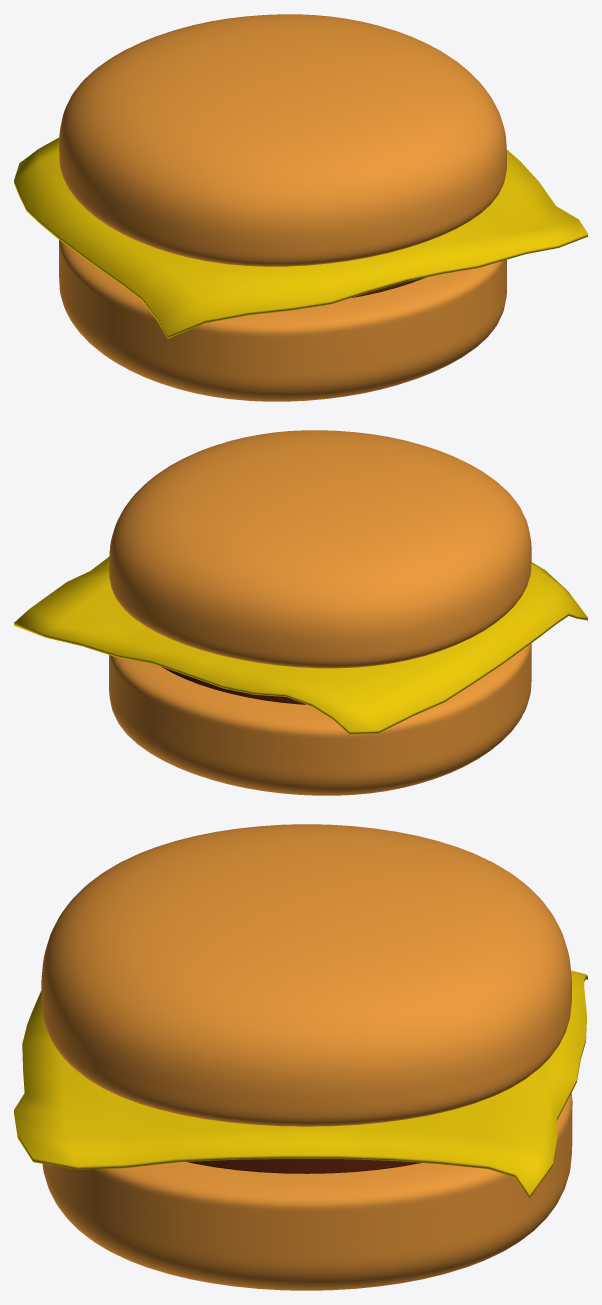
The model's file is 面包片.glb.
3 renders of one model, top to bottom at view 1: azimuth 30°, elevation 25°; view 2: azimuth 150°, elevation 25°; view 3: azimuth 270°, elevation 25°, orthographic. The views are drawn at different scales.
Parts seen in each view (by area): view 1: 立方体.001, 立方体, 平面; view 2: 立方体.001, 立方体, 平面, 立方体.002; view 3: 立方体.001, 立方体, 平面, 立方体.002.
Part boxes in pixels (x1,y1,x2,y2): 立方体.001: [59, 14, 506, 266]; 立方体: [59, 240, 506, 401]; 平面: [14, 137, 587, 338]; 立方体.001: [109, 430, 531, 668]; 立方体: [109, 643, 531, 795]; 平面: [14, 557, 587, 734]; 立方体.002: [162, 667, 305, 704]; 立方体.001: [41, 824, 571, 1126]; 立方体: [42, 1093, 572, 1290]; 平面: [14, 970, 587, 1198]; 立方体.002: [188, 1159, 420, 1173].
Size of the model in its own units: 10.62 by 6.28 by 9.91.
